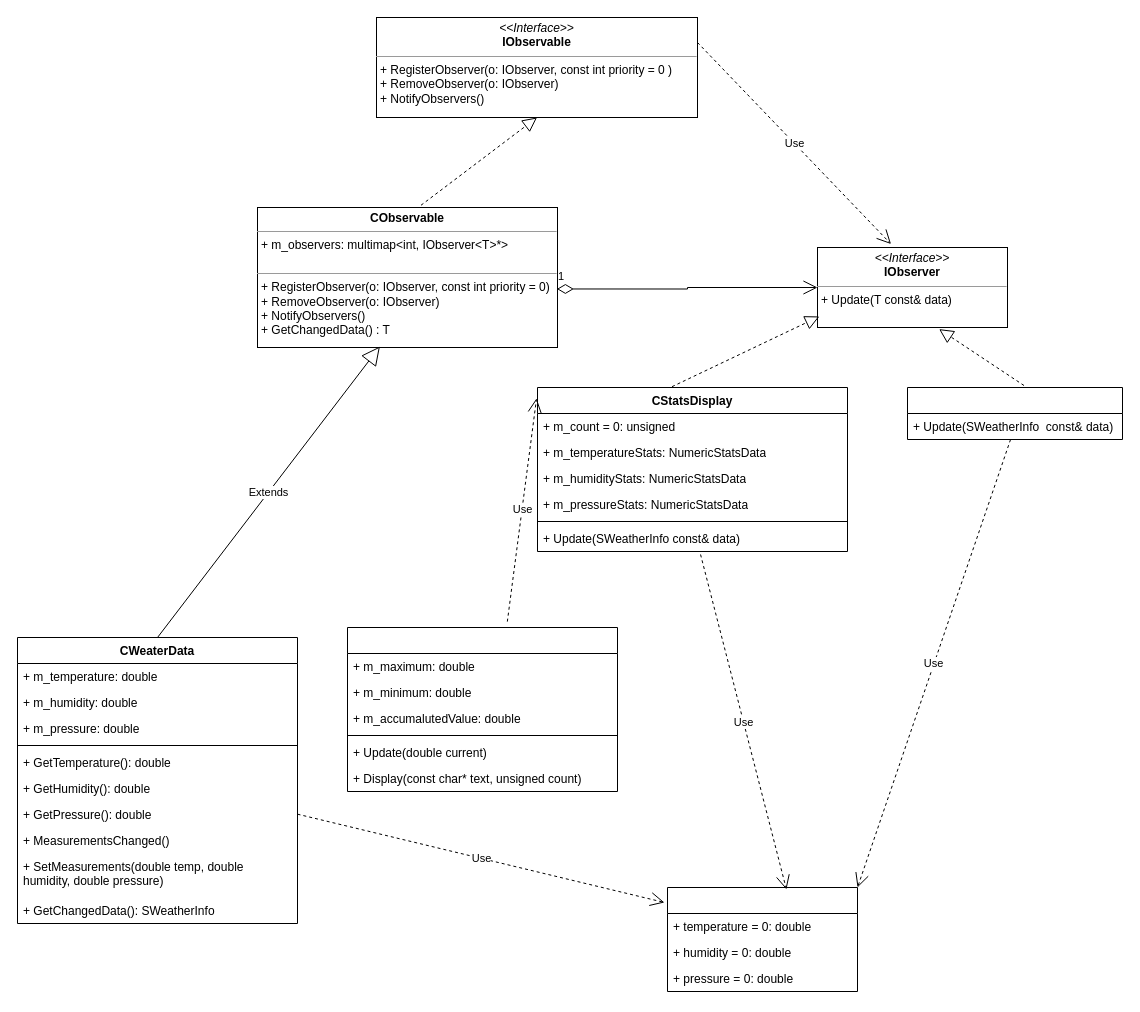
The diagram is 1140 pixels wide and 1012 high, and some of its shapes have lost their labels. The box of each missing label's shape, as (x1, y1, x2, y2) in pixels:
CDisplay: (906, 386, 1122, 440)
CNumericStatsData: (346, 626, 618, 792)
SWeatherInfo: (666, 886, 858, 992)
